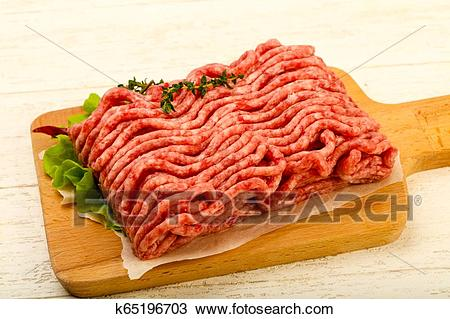ground_beef: (67, 51, 386, 243)
